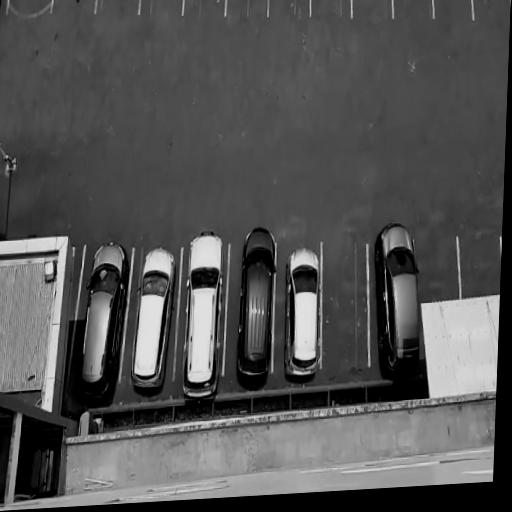Car: (369, 217, 427, 380), (232, 221, 285, 392), (179, 228, 227, 408), (79, 241, 131, 407), (130, 245, 177, 397), (280, 239, 326, 383)
Space Available: (320, 238, 370, 370), (416, 231, 457, 298), (462, 232, 502, 294), (141, 0, 183, 20), (351, 0, 391, 21), (9, 0, 51, 19), (185, 0, 225, 19), (228, 0, 268, 19), (311, 0, 351, 18), (474, 0, 508, 21), (55, 0, 94, 18), (433, 0, 469, 19), (97, 0, 139, 16), (270, 0, 310, 15), (393, 0, 433, 13)
